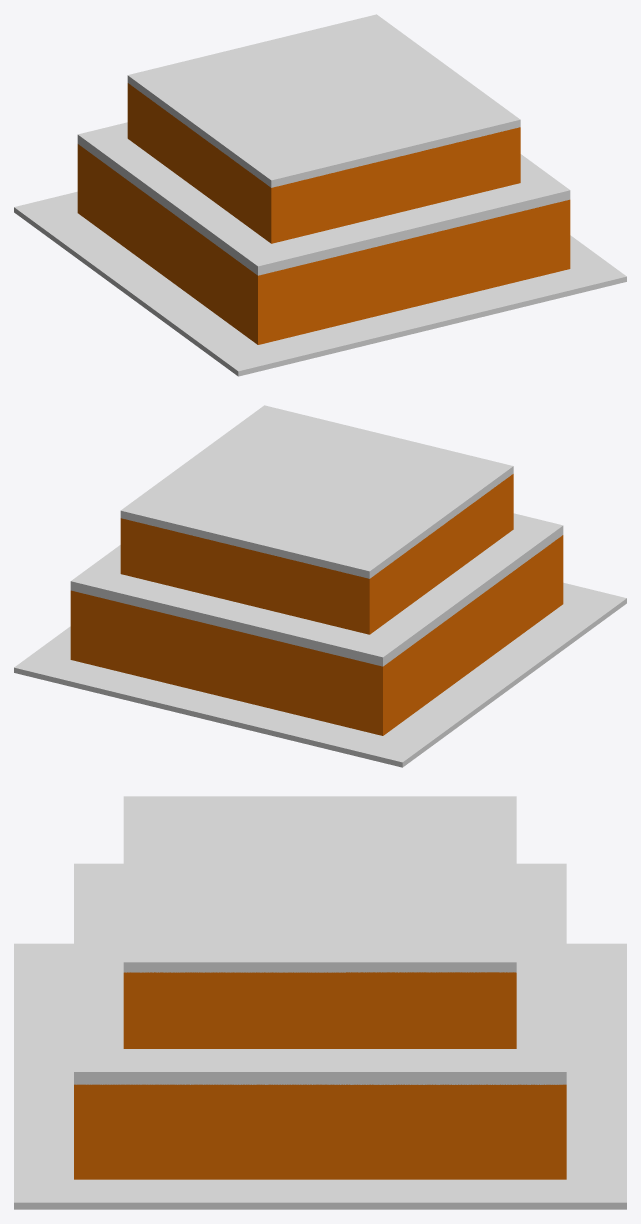
File: CAKE_C_2L_RENAME.glb
The picture shows the model from 3 angles, top to bottom: view 1: azimuth 30°, elevation 25°; view 2: azimuth 150°, elevation 25°; view 3: azimuth 270°, elevation 25°; orthographic projection. The views are drawn at different scales.
Visible parts, largest first — view 1: CREAM, BATTER.001, BATTER, PLATE, CREAM.001; view 2: CREAM, BATTER.001, BATTER, PLATE, CREAM.001; view 3: CREAM, PLATE, BATTER.001, CREAM.001, BATTER.
Part boxes in pixels (box(x1,y1,x2,y2)): CREAM: box(127, 14, 520, 187); BATTER.001: box(77, 144, 570, 344); BATTER: box(127, 83, 520, 243); PLATE: box(14, 191, 626, 376); CREAM.001: box(77, 122, 570, 275); CREAM: box(120, 405, 513, 578); BATTER.001: box(70, 535, 563, 735); BATTER: box(120, 474, 513, 634); PLATE: box(14, 582, 626, 767); CREAM.001: box(70, 513, 563, 666); CREAM: box(123, 796, 516, 972); PLATE: box(14, 943, 626, 1209); BATTER.001: box(74, 1084, 566, 1179); CREAM.001: box(74, 863, 566, 1084); BATTER: box(123, 972, 516, 1048).
Bounding box in the file's own units: 2 × 0.7322 × 2.
